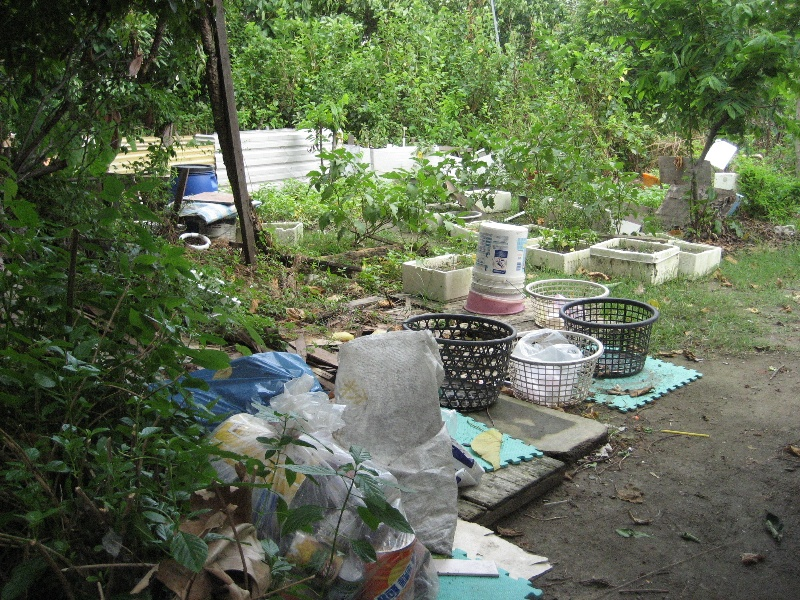bucket: (470, 219, 530, 297), (169, 162, 220, 201)
plastic_bag: (207, 374, 443, 600), (329, 327, 460, 561), (142, 349, 325, 425), (511, 328, 582, 406)
styrofoam: (462, 186, 514, 215), (254, 221, 306, 249)
